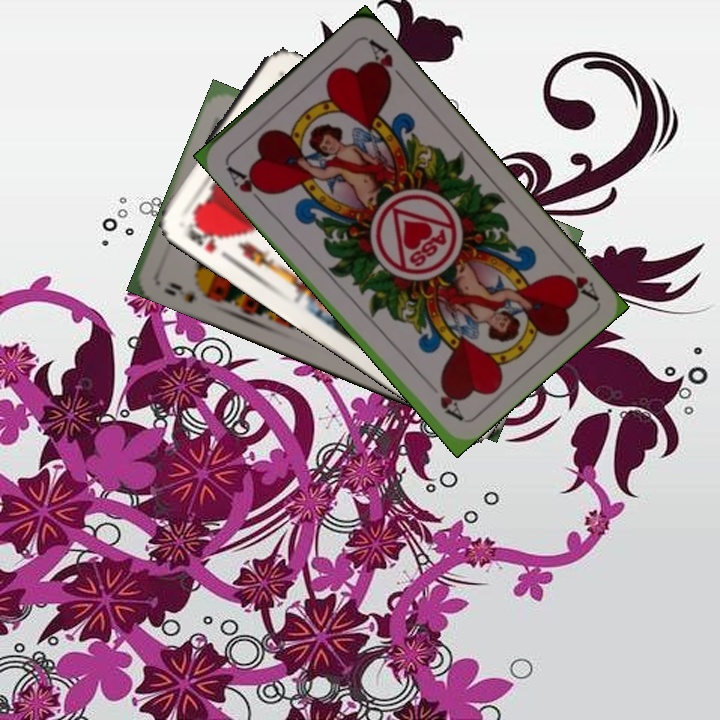HA: (222, 159, 273, 207), (555, 253, 600, 303)
HK: (184, 215, 224, 256)
S9: (159, 278, 201, 306)
